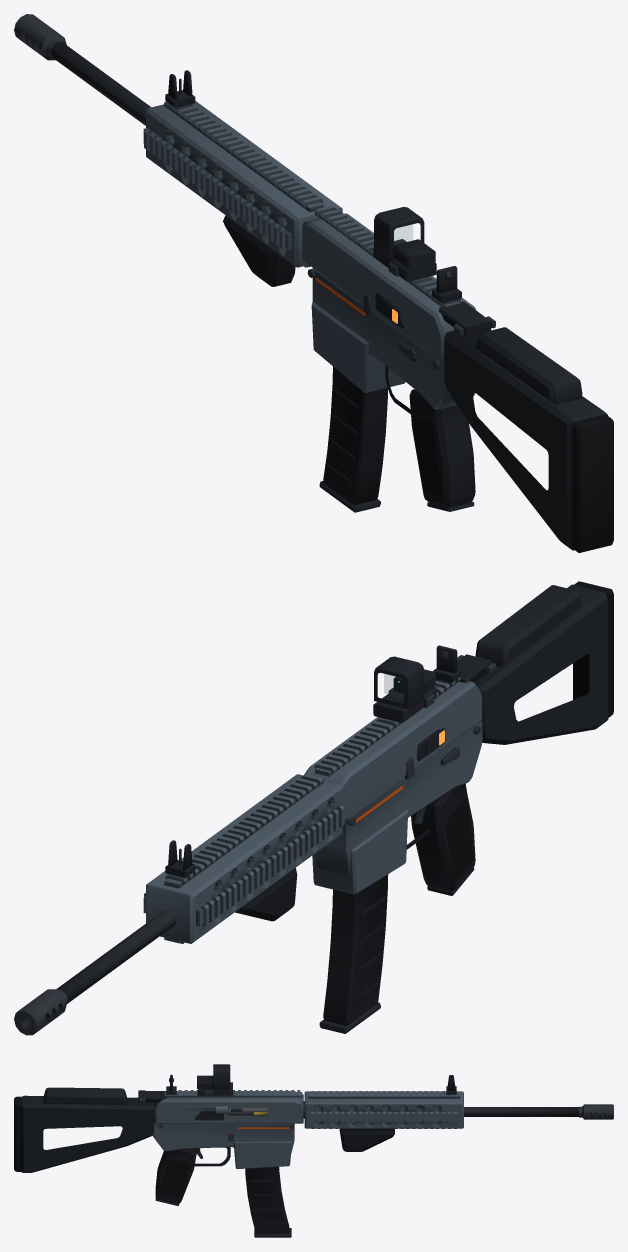
The model's file is scar-l.glb.
3 views of the same model, one above another, from view 1: azimuth 30°, elevation 25°; view 2: azimuth 150°, elevation 25°; view 3: azimuth 270°, elevation 25° (orthographic). The views are drawn at different scales.
Visible parts, largest first — view 1: body_frame, body_furn, body_rubber, body_frame2, mag_polymer, body_polymer, body_steel; view 2: body_frame, body_furn, mag_polymer, body_frame2, body_steel, body_polymer, body_rubber; view 3: body_frame, body_furn, mag_polymer, body_frame2, body_steel, body_polymer, body_rubber, bolt_bolt.
Boxes of the visible parts, bbox=[...] form: body_frame: bbox=[143, 101, 475, 409]; body_furn: bbox=[444, 327, 607, 550]; body_rubber: bbox=[413, 414, 613, 552]; body_frame2: bbox=[165, 70, 491, 511]; mag_polymer: bbox=[323, 366, 387, 504]; body_polymer: bbox=[223, 215, 475, 507]; body_steel: bbox=[14, 14, 495, 369]; body_frame: bbox=[143, 677, 482, 943]; body_furn: bbox=[474, 584, 608, 744]; mag_polymer: bbox=[323, 874, 388, 1025]; body_frame2: bbox=[165, 645, 491, 895]; body_steel: bbox=[14, 651, 495, 1035]; body_polymer: bbox=[235, 783, 475, 921]; body_rubber: bbox=[445, 581, 613, 880]; body_frame: bbox=[152, 1090, 463, 1168]; body_furn: bbox=[21, 1087, 155, 1172]; mag_polymer: bbox=[245, 1166, 289, 1233]; body_frame2: bbox=[138, 1064, 456, 1206]; body_steel: bbox=[138, 1078, 613, 1158]; body_polymer: bbox=[155, 1128, 394, 1203]; body_rubber: bbox=[14, 1096, 189, 1198]; bolt_bolt: bbox=[228, 1108, 267, 1115].
Size of the model in its own units: 0.0668 by 0.3265 by 1.06.
